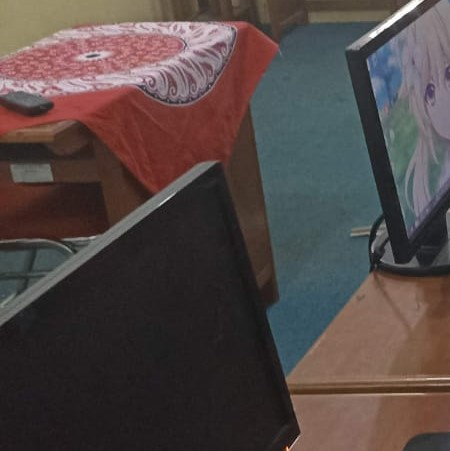monitor: (0, 160, 301, 444), (345, 1, 450, 267)
